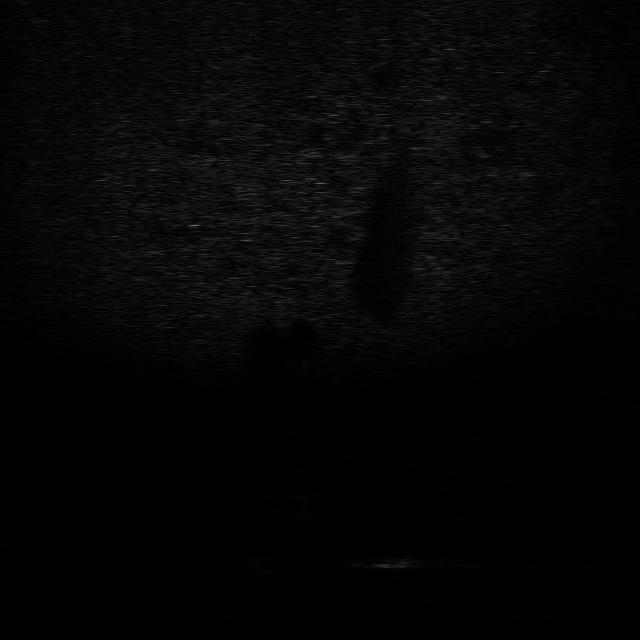ball: (282, 477, 318, 502)
metal bucket: (352, 548, 428, 574)
tyre: (248, 546, 298, 578)
